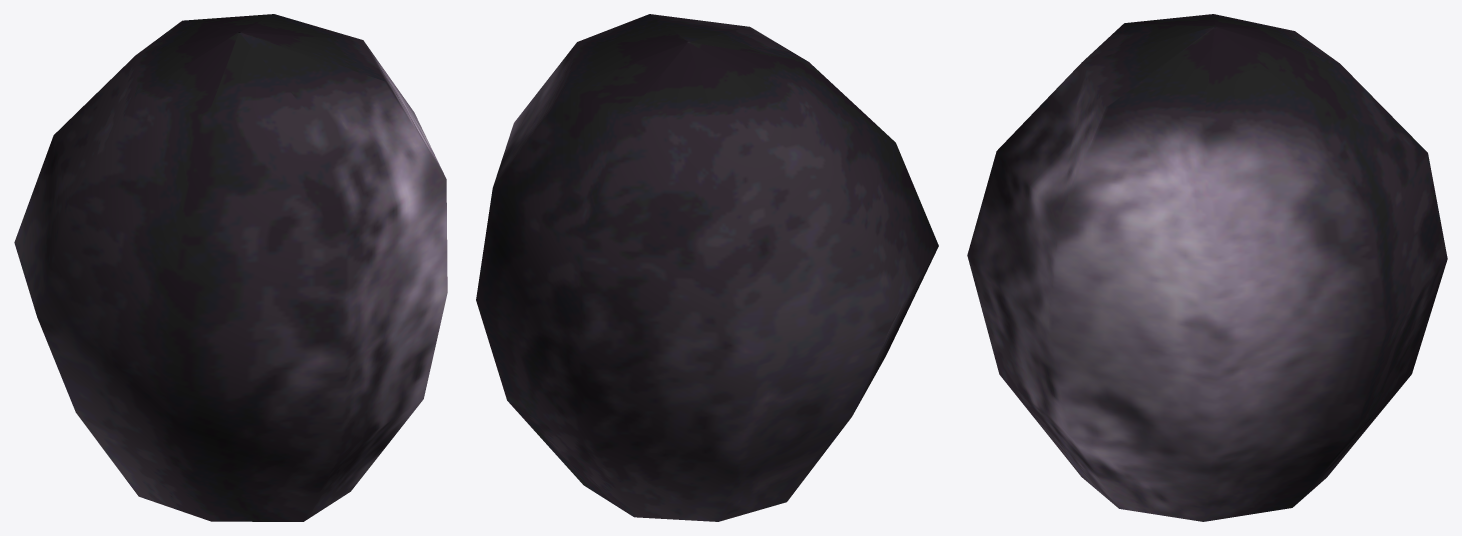
The model's file is bgrnd52.obj.
3 renders of one model, left to right at view 1: azimuth 30°, elevation 25°; view 2: azimuth 150°, elevation 25°; view 3: azimuth 270°, elevation 25°, orthographic. The views are drawn at different scales.
Parts seen in each view (by area): view 1: frm-sphere9; view 2: frm-sphere9; view 3: frm-sphere9.
Boxes of the visible parts, <box> form: frm-sphere9: <box>14,14,447,521</box>; frm-sphere9: <box>476,14,938,521</box>; frm-sphere9: <box>967,14,1447,521</box>.
Size of the model in its own units: 8.7 by 10 by 9.16.
